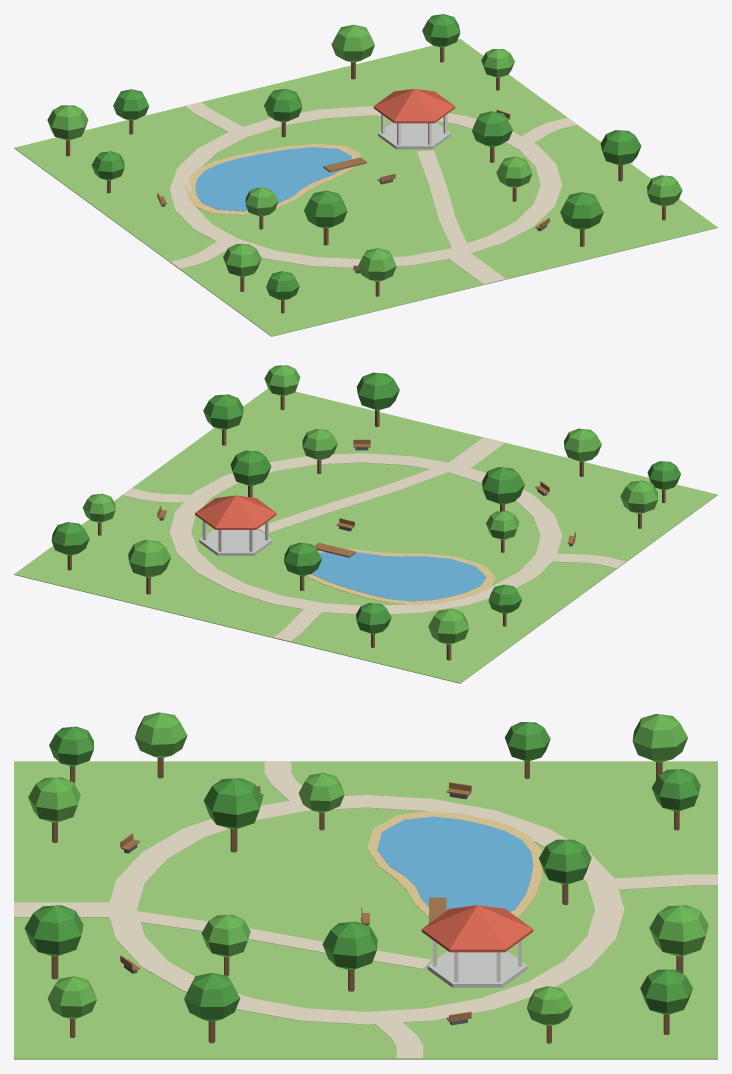
File: parklarge.glb
3 renders of one model, top to bottom at view 1: azimuth 30°, elevation 25°; view 2: azimuth 150°, elevation 25°; view 3: azimuth 270°, elevation 25°, orthographic. The views are drawn at different scales.
Parts seen in each view (by area): view 1: parklarge; view 2: parklarge; view 3: parklarge.
Boxes of the visible parts, bbox=[...] form: parklarge: bbox=[14, 14, 717, 336]; parklarge: bbox=[14, 365, 717, 683]; parklarge: bbox=[14, 712, 717, 1059].
Size of the model in its own units: 48 by 5.52 by 48.
